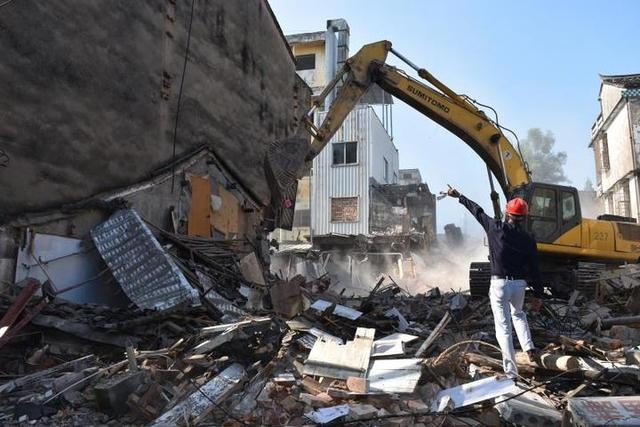red: (504, 198, 529, 225)
